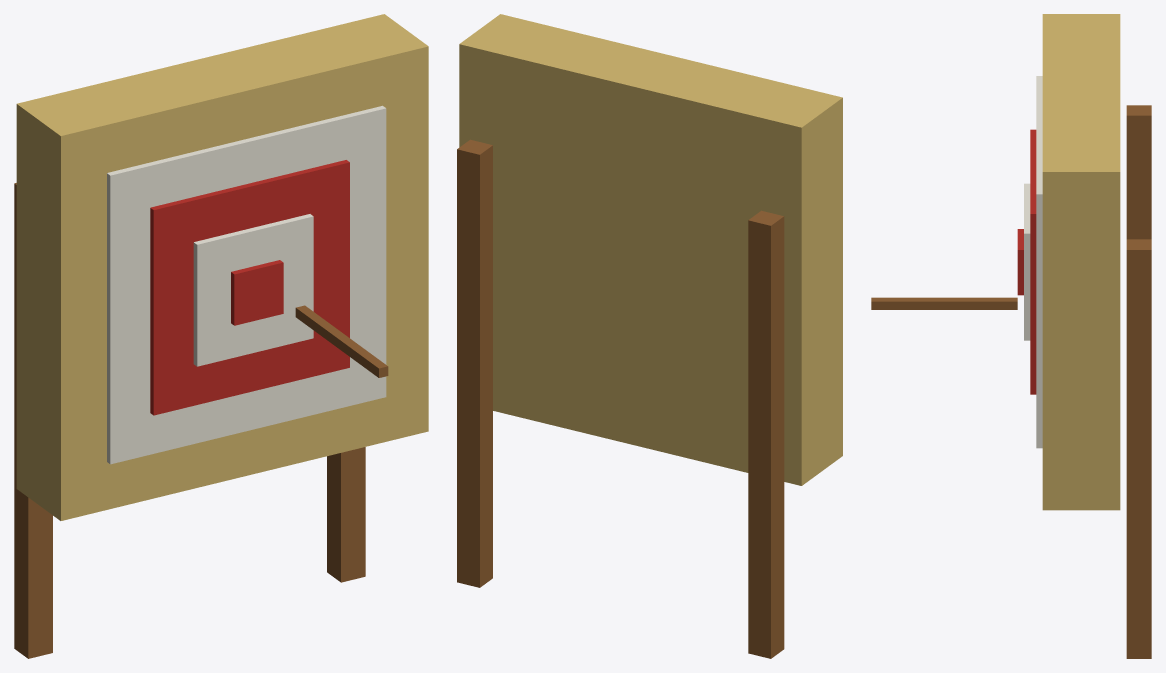
File: camp_target.glb
The picture shows the model from 3 angles, left to right: view 1: azimuth 30°, elevation 25°; view 2: azimuth 150°, elevation 25°; view 3: azimuth 270°, elevation 25°; orthographic projection. The views are drawn at different scales.
Parts seen in each view (by area): view 1: camp_target; view 2: camp_target; view 3: camp_target.
Part boxes in pixels (bbox=[...]): camp_target: bbox=[14, 14, 428, 658]; camp_target: bbox=[457, 14, 842, 658]; camp_target: bbox=[871, 14, 1151, 658].
Bounding box in the file's own units: 1.2 × 1.75 × 0.9.
1 material, 1 textured.
